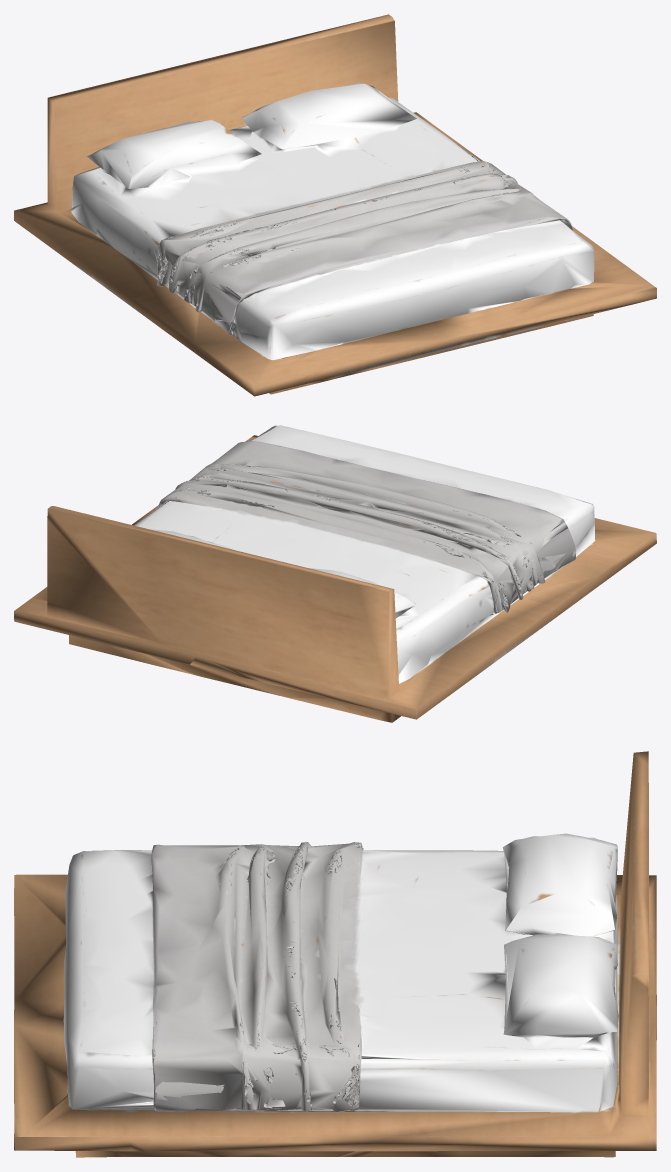
The model's file is bed.glb.
The picture shows the model from 3 angles, top to bottom: view 1: azimuth 30°, elevation 25°; view 2: azimuth 150°, elevation 25°; view 3: azimuth 270°, elevation 25°; orthographic projection. The views are drawn at different scales.
Parts seen in each view (by area): view 1: geometry_0; view 2: geometry_0; view 3: geometry_0.
Boxes of the visible parts, <box> form: geometry_0: <box>14,14,656,396</box>; geometry_0: <box>14,425,656,722</box>; geometry_0: <box>14,751,656,1157</box>.
Size of the model in its own units: 0.9573 by 0.3241 by 0.9909.
1 material, 1 textured.
